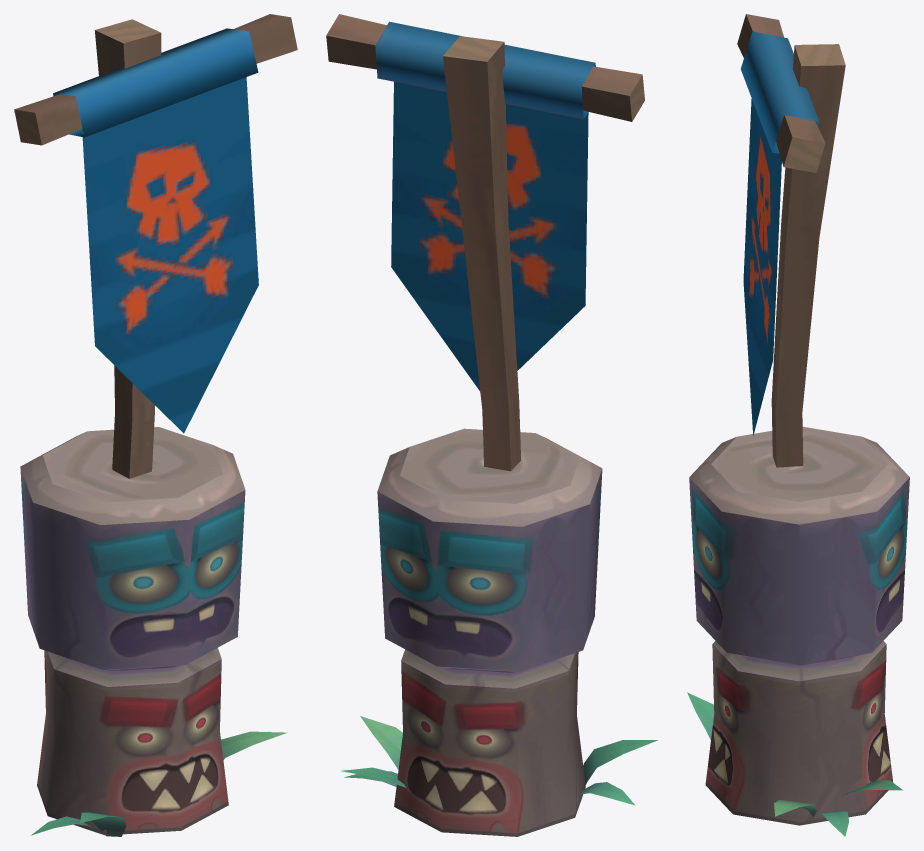
Rendered from Pillar1B-009_02_22_3370.fbx.
The picture shows the model from 3 angles, left to right: view 1: azimuth 30°, elevation 25°; view 2: azimuth 150°, elevation 25°; view 3: azimuth 270°, elevation 25°; orthographic projection. The views are drawn at different scales.
Visible parts, largest first — view 1: Totem3, Flag2 (2), ClothTop3 (2), Wood1.002 (1), WoodTop (2); view 2: Totem3, Flag2 (2), Wood1.002 (1), ClothTop3 (2), WoodTop (2); view 3: Totem3, Wood1.002 (1), Flag2 (2), ClothTop3 (2), WoodTop (2).
Part boxes in pixels (x1,y1,x2,y2): Totem3: (20, 427, 287, 836); Flag2 (2): (82, 77, 258, 433); ClothTop3 (2): (53, 28, 258, 137); Wood1.002 (1): (94, 19, 161, 478); WoodTop (2): (14, 14, 297, 145); Totem3: (341, 428, 658, 836); Flag2 (2): (391, 81, 588, 391); Wood1.002 (1): (443, 36, 520, 471); ClothTop3 (2): (375, 21, 595, 119); WoodTop (2): (326, 14, 644, 121); Totem3: (687, 426, 909, 836); Wood1.002 (1): (771, 44, 845, 467); Flag2 (2): (743, 99, 781, 435); ClothTop3 (2): (741, 31, 819, 153); WoodTop (2): (737, 14, 825, 172).
Size of the model in its own units: 2.48 by 6.28 by 1.72.
